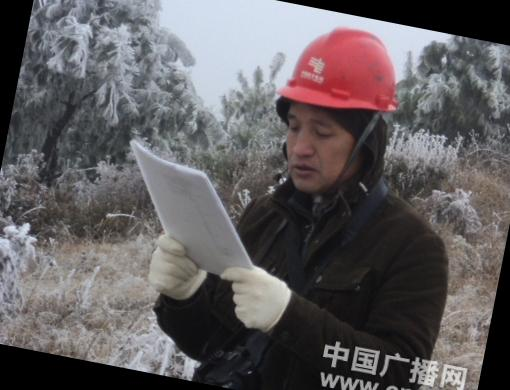helmet: (262, 11, 412, 132)
no_wear: (190, 188, 449, 390)
